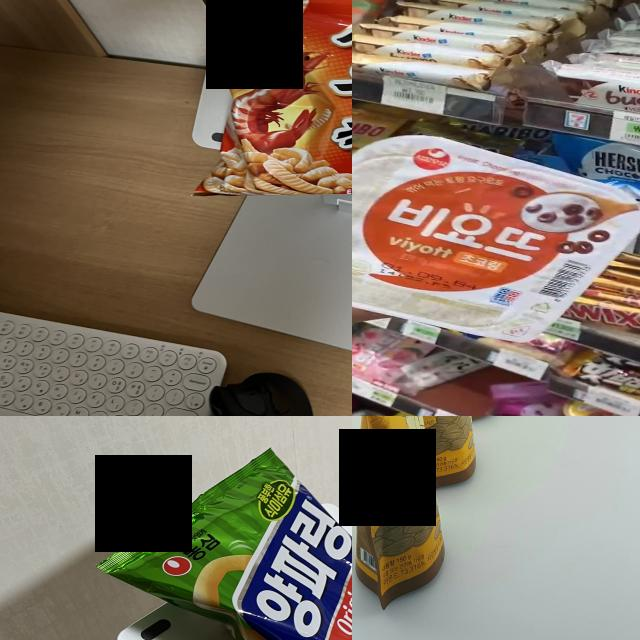bYott: (352, 136, 640, 342)
honeyAmond: (368, 416, 431, 596), (417, 416, 467, 478)
onionRing: (111, 448, 352, 640)
shrimpGGang: (221, 0, 352, 196)
